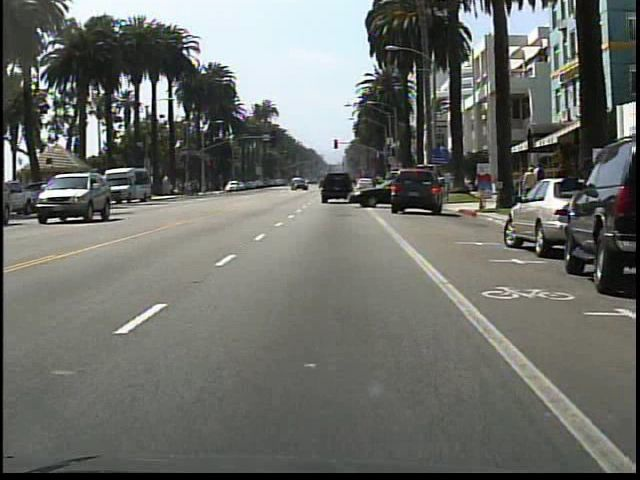person: (534, 161, 548, 204), (369, 170, 386, 204), (521, 163, 537, 195)
